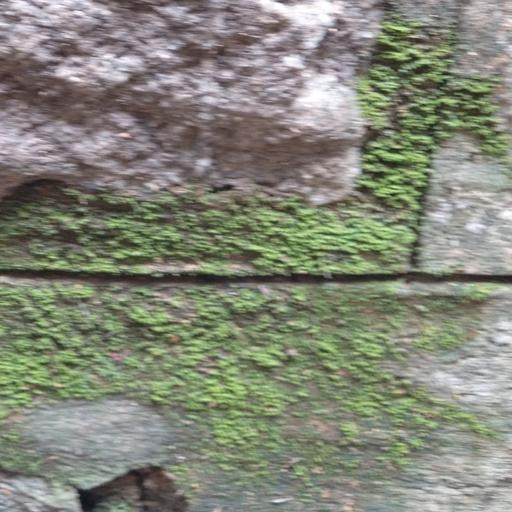algae: (5, 182, 489, 436)
